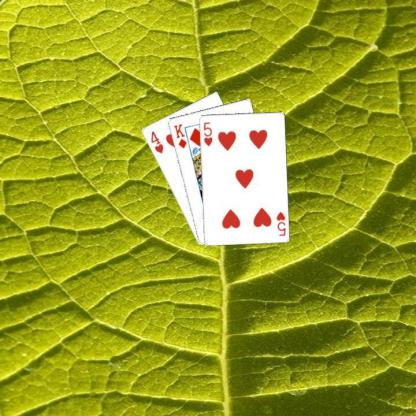4H: (148, 128, 164, 154)
5H: (273, 208, 287, 237), (201, 119, 213, 147)
KD: (171, 121, 188, 150)
